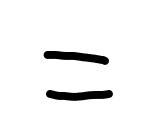eqv: (44, 51, 112, 100)
